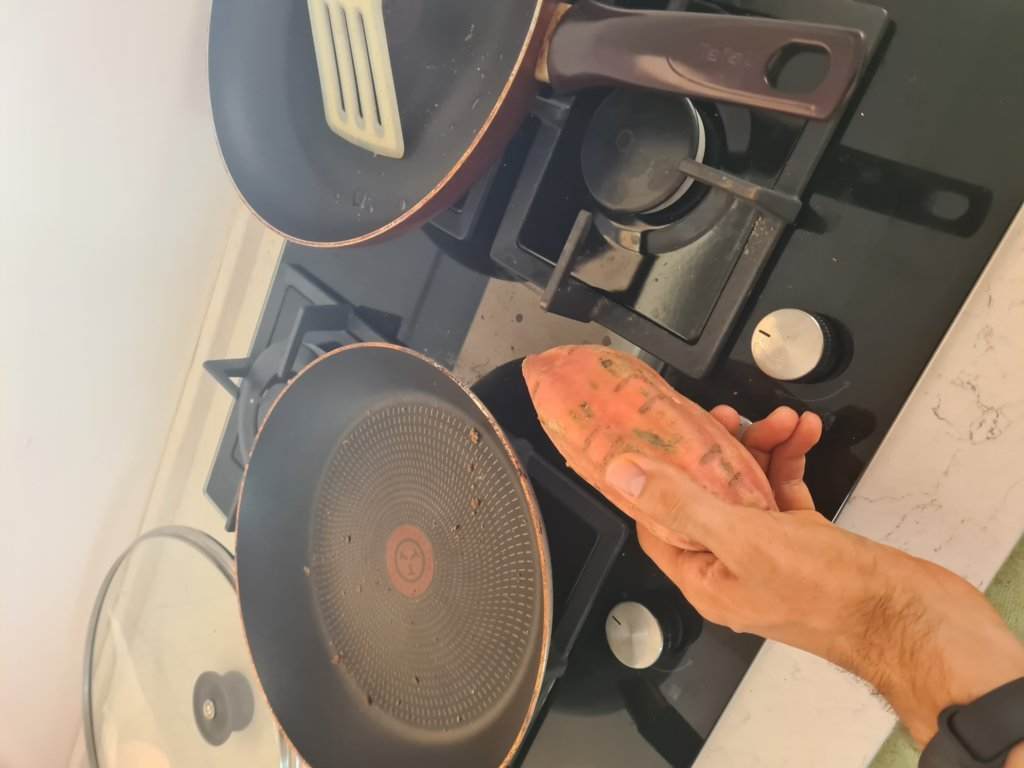Sweet Potatow: (521, 342, 779, 543)
